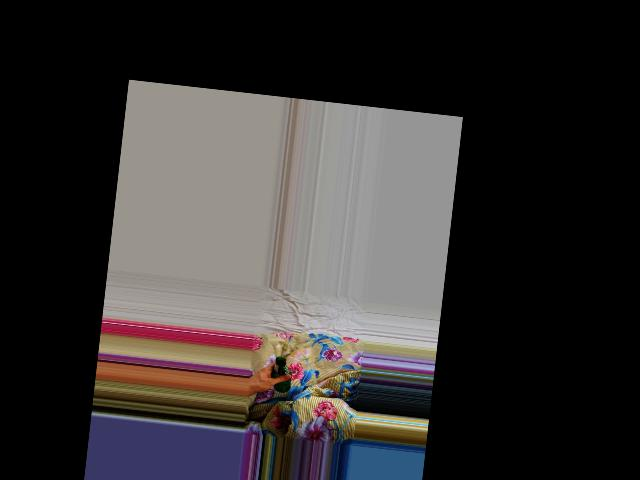beer: (268, 356, 293, 393)
